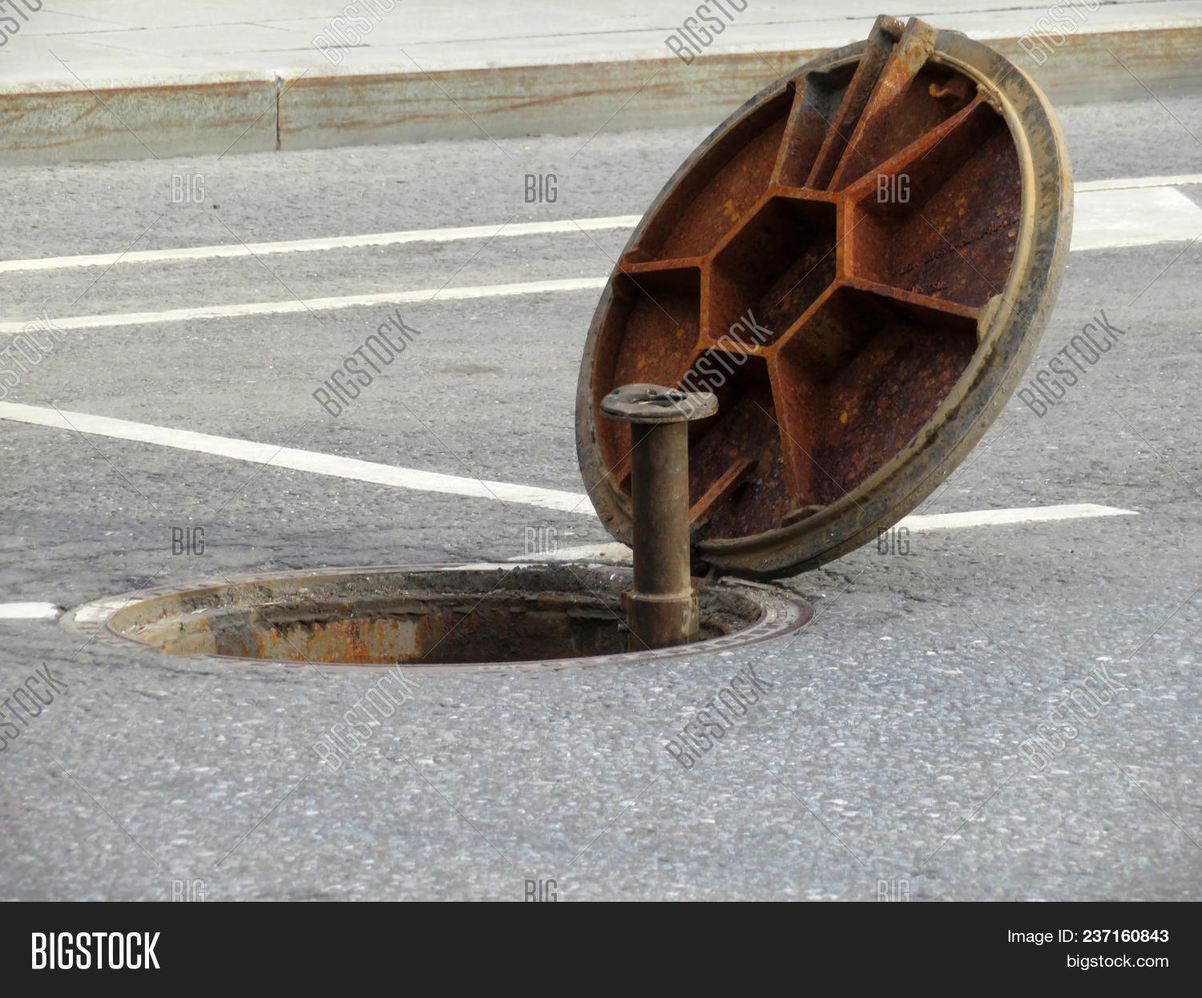Open_manhole: (40, 18, 1086, 718)
